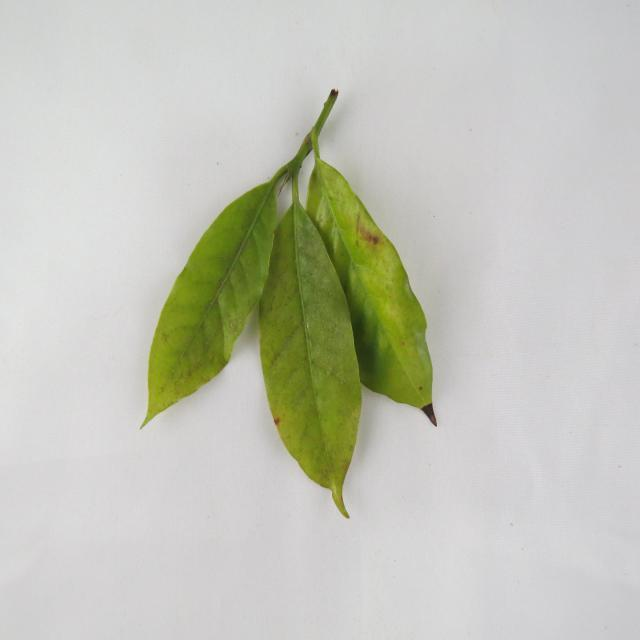DeficienciaNutricional-Nitrogeno: (150, 93, 430, 504)
